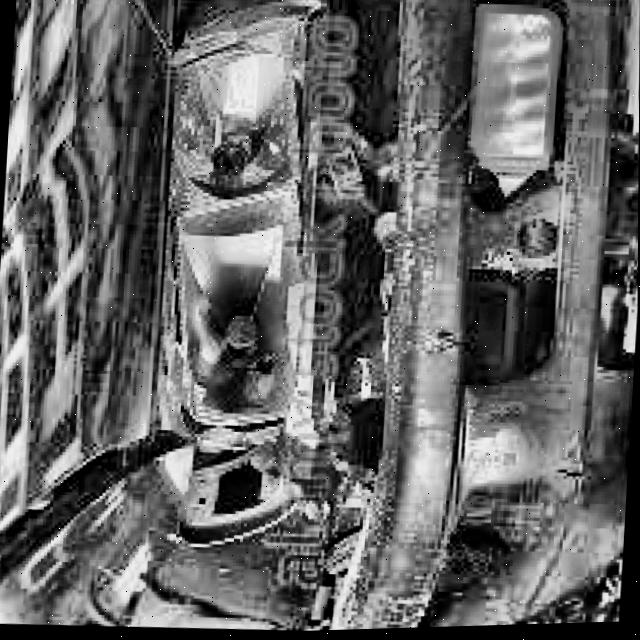head_lamp: (153, 24, 323, 508), (463, 0, 577, 404)
